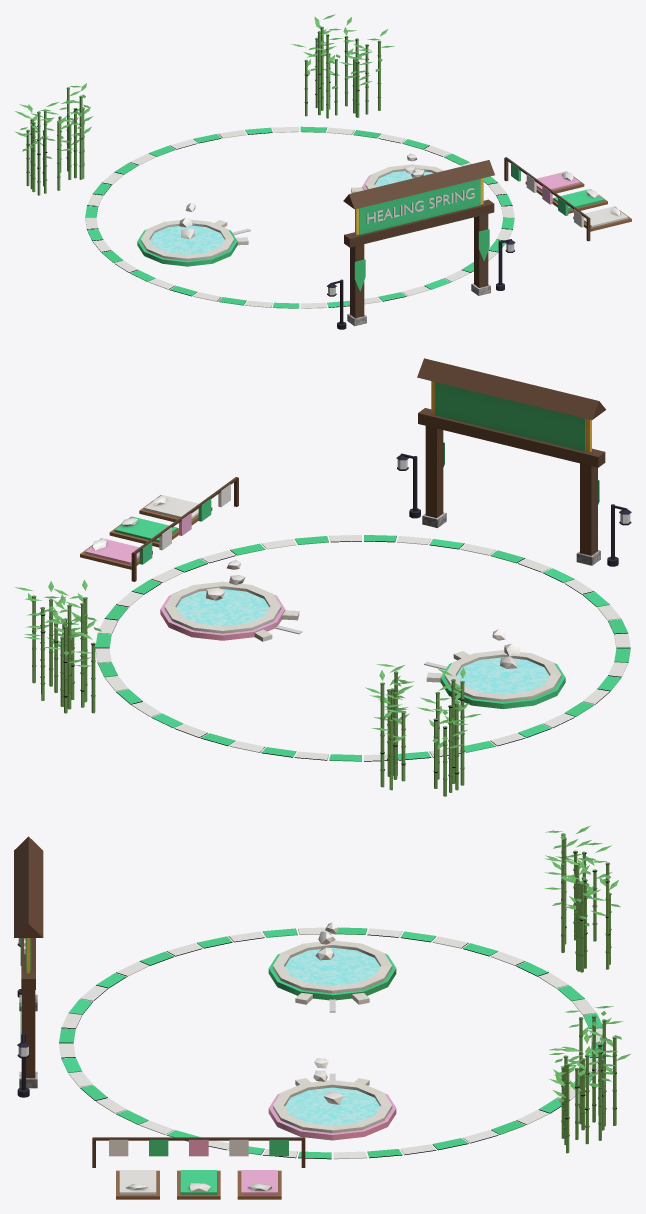
Rendered from area_spring_2_5.fbx.
The picture shows the model from 3 angles, top to bottom: view 1: azimuth 30°, elevation 25°; view 2: azimuth 150°, elevation 25°; view 3: azimuth 270°, elevation 25°; orthographic projection. The views are drawn at different scales.
Visible parts, largest first — view 1: area_spring_2_5_body; view 2: area_spring_2_5_body; view 3: area_spring_2_5_body.
Part boxes in pixels (x1,y1,x2,y2): area_spring_2_5_body: [14, 14, 631, 329]; area_spring_2_5_body: [15, 358, 631, 796]; area_spring_2_5_body: [14, 825, 631, 1199].
Size of the model in its own units: 13100 by 3763 by 12705.
Materials: 2 (1 with a texture image).
